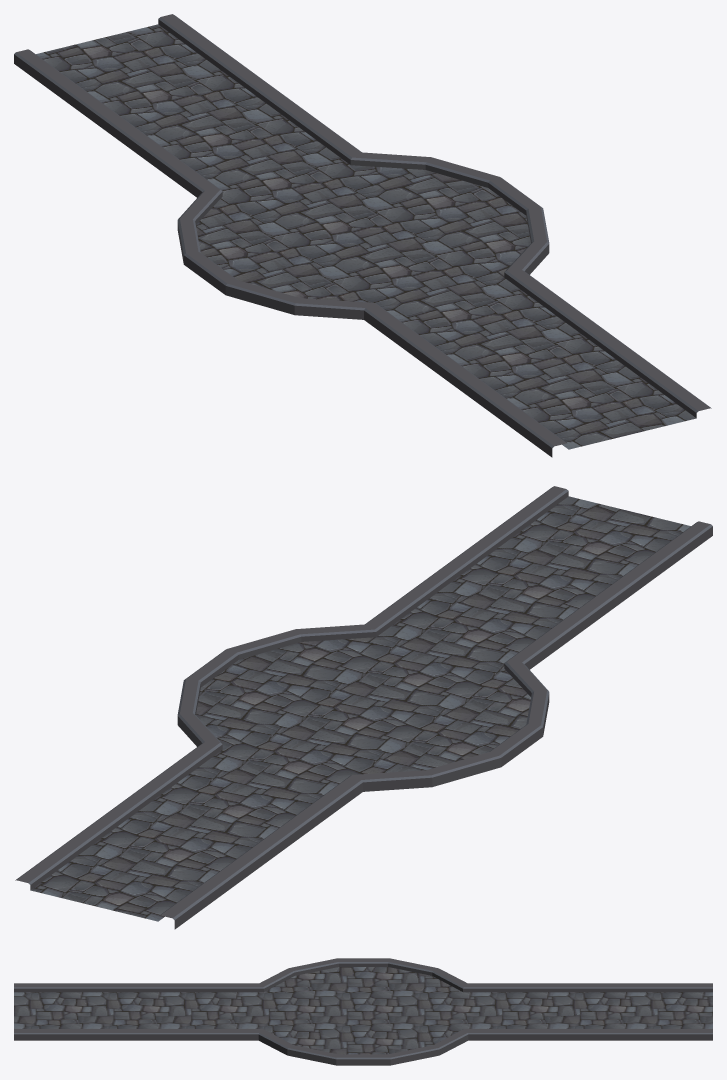
Rendered from pavementTwoWay.glb.
3 renders of one model, top to bottom at view 1: azimuth 30°, elevation 25°; view 2: azimuth 150°, elevation 25°; view 3: azimuth 270°, elevation 25°, orthographic. The views are drawn at different scales.
Parts seen in each view (by area): view 1: PavementTwoWay; view 2: PavementTwoWay; view 3: PavementTwoWay.
Part boxes in pixels (bbox=[...]): PavementTwoWay: bbox=[14, 14, 711, 457]; PavementTwoWay: bbox=[15, 486, 712, 929]; PavementTwoWay: bbox=[14, 958, 712, 1065].
Size of what is drawn, in the model's own units: 8.17 by 0.2711 by 24.
Materials: 1 (1 with a texture image).
